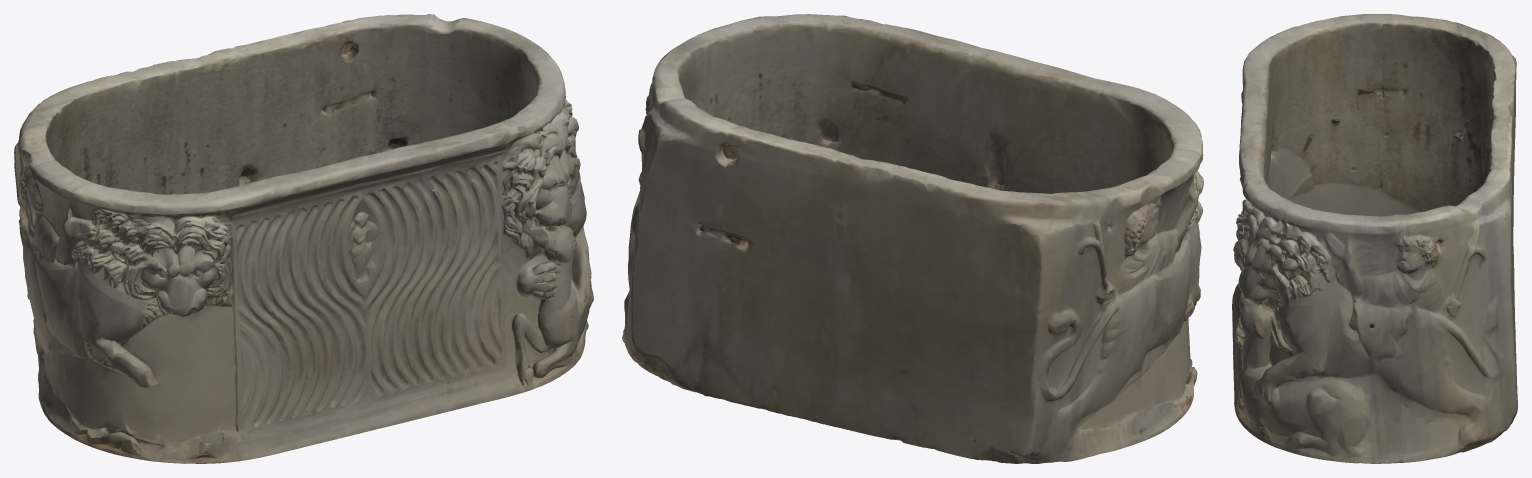
The model's file is preview.glb.
3 views of the same model, side by side, from view 1: azimuth 30°, elevation 25°; view 2: azimuth 150°, elevation 25°; view 3: azimuth 270°, elevation 25° (orthographic). The views are drawn at different scales.
Visible parts, largest first — view 1: KraussSarcophagusMetashape_KraussSarcophagusMetashape_n3d; view 2: KraussSarcophagusMetashape_KraussSarcophagusMetashape_n3d; view 3: KraussSarcophagusMetashape_KraussSarcophagusMetashape_n3d.
Part boxes in pixels (x1,y1,x2,y2): KraussSarcophagusMetashape_KraussSarcophagusMetashape_n3d: [14, 14, 593, 463]; KraussSarcophagusMetashape_KraussSarcophagusMetashape_n3d: [622, 14, 1203, 463]; KraussSarcophagusMetashape_KraussSarcophagusMetashape_n3d: [1232, 14, 1517, 463].
Size of the model in its own units: 2.26 by 1.1 by 1.22.
1 material, 1 textured.
